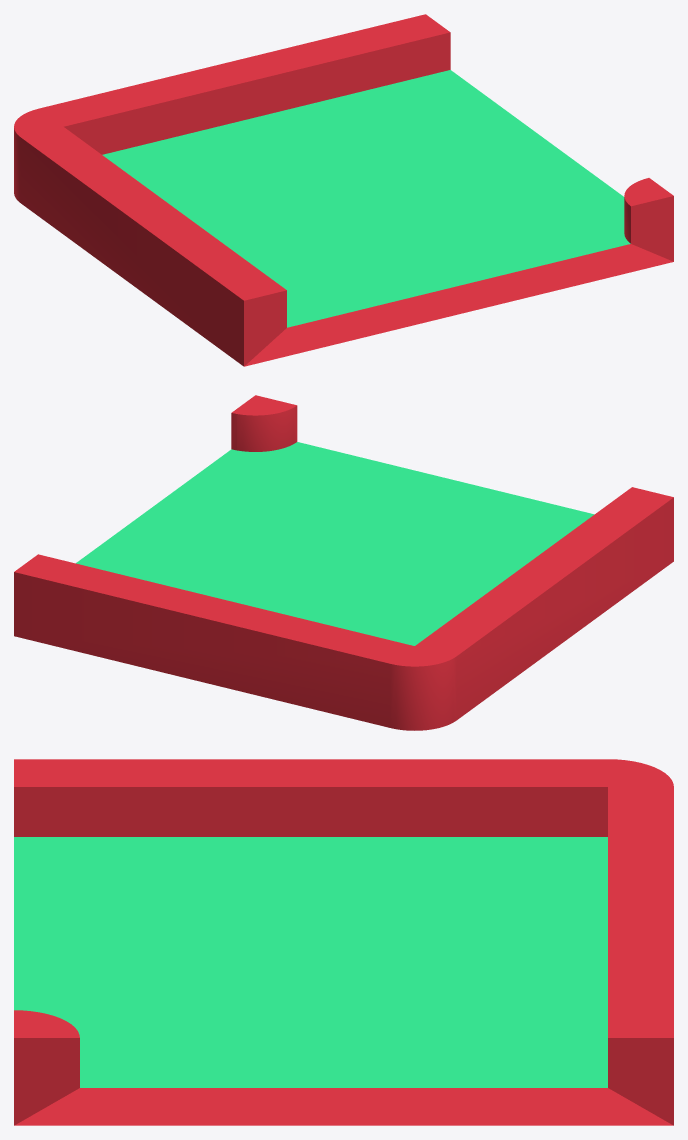
File: squareCornerA.fbx
The picture shows the model from 3 angles, top to bottom: view 1: azimuth 30°, elevation 25°; view 2: azimuth 150°, elevation 25°; view 3: azimuth 270°, elevation 25°; orthographic projection. The views are drawn at different scales.
Visible parts, largest first — view 1: squareCornerA; view 2: squareCornerA; view 3: squareCornerA.
Part boxes in pixels (x1,y1,x2,y2): squareCornerA: (14,14,673,366); squareCornerA: (14,395,673,730); squareCornerA: (14,759,673,1125).
Bounding box in the file's own units: 99.99 × 99.99 × 14.67.
